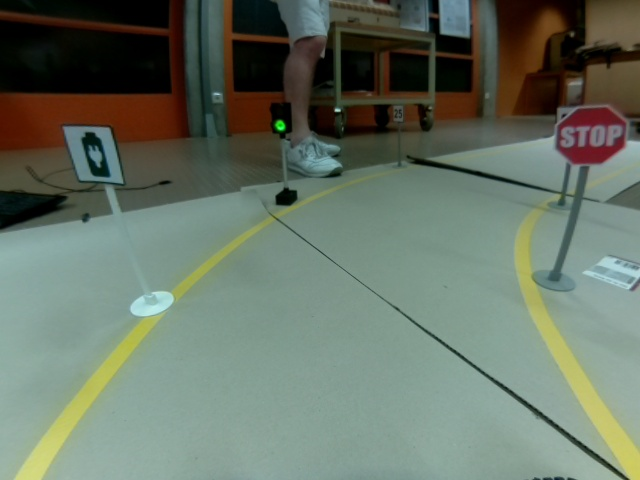battery: (60, 121, 127, 187)
speed25: (391, 104, 406, 123)
stop: (553, 103, 630, 168)
traffic light: (268, 100, 295, 138)
